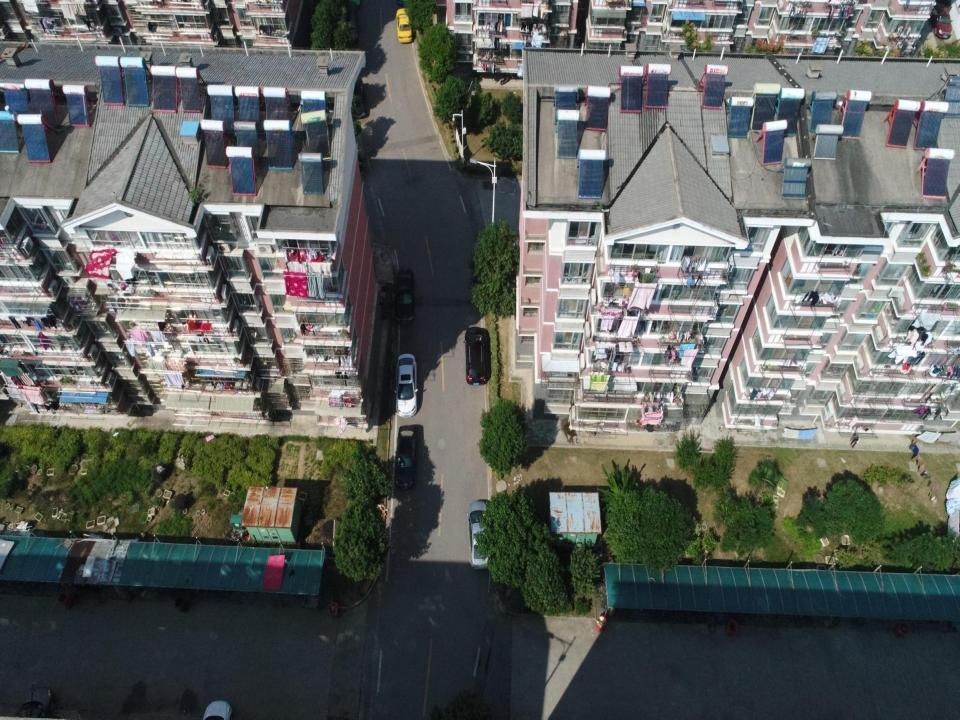car: (466, 500, 494, 570), (394, 352, 418, 417), (394, 426, 418, 489), (463, 326, 488, 386), (394, 268, 416, 325), (349, 78, 366, 120), (30, 687, 52, 719), (395, 7, 413, 43), (347, 13, 358, 41)
